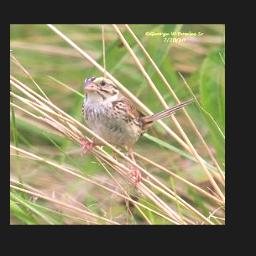Sparrow: (77, 76, 196, 191)
